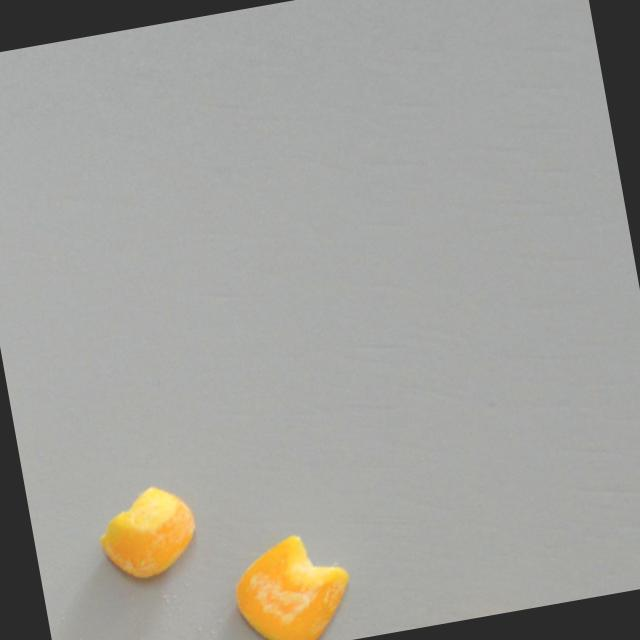pelicula: (224, 524, 359, 640), (88, 478, 204, 586)
